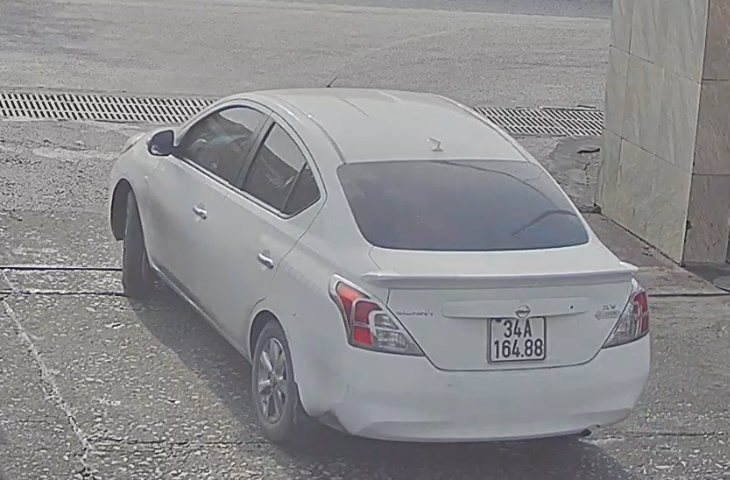vehicle plate: (487, 309, 555, 366)
